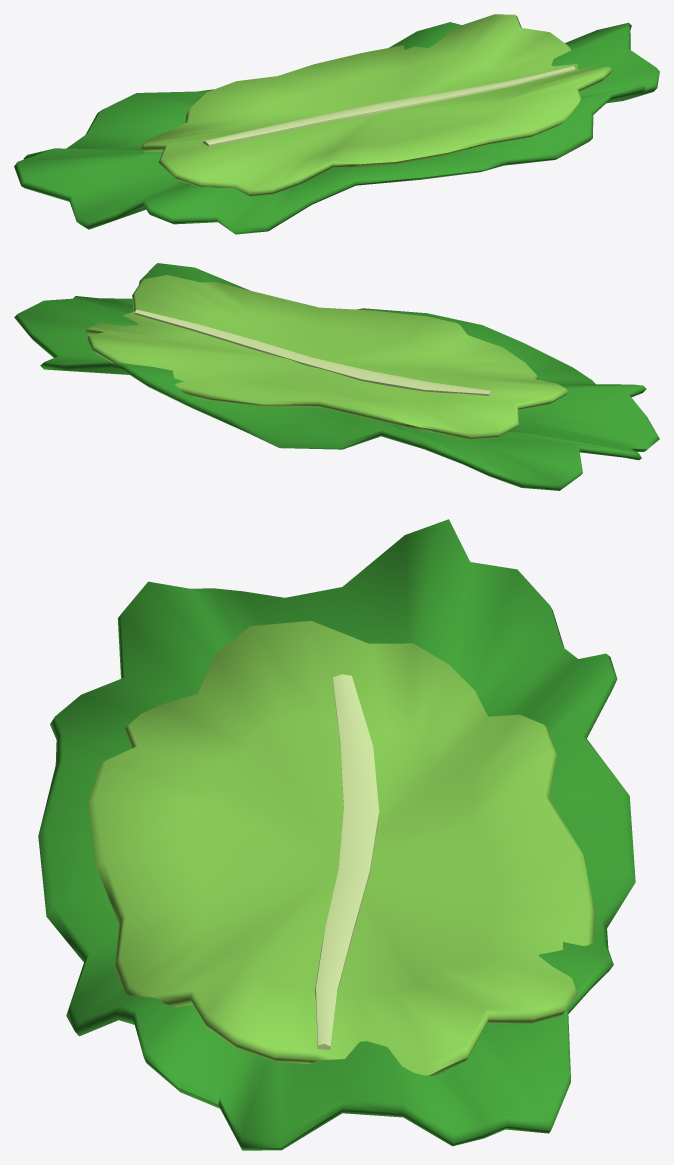
Rendered from Food_Lettuce.fbx.
3 views of the same model, one above another, from view 1: azimuth 30°, elevation 25°; view 2: azimuth 150°, elevation 25°; view 3: azimuth 270°, elevation 25° (orthographic). The views are drawn at different scales.
Visible parts, largest first — view 1: LeafLight, LeafDark, Rib; view 2: LeafLight, LeafDark, Rib; view 3: LeafLight, LeafDark, Rib.
Boxes of the visible parts, x1=… form: LeafLight: x1=141, y1=14, x2=612, y2=196; LeafDark: x1=14, y1=22, x2=659, y2=234; Rib: x1=203, y1=66, x2=575, y2=146; LeafLight: x1=85, y1=275, x2=568, y2=439; LeafDark: x1=14, y1=263, x2=659, y2=490; Rib: x1=134, y1=309, x2=492, y2=395; LeafLight: x1=87, y1=621, x2=595, y2=1075; LeafDark: x1=38, y1=519, x2=635, y2=1150; Rib: x1=315, y1=674, x2=379, y2=1049.
Size of the model in its own units: 223 by 14.84 by 93.58.
